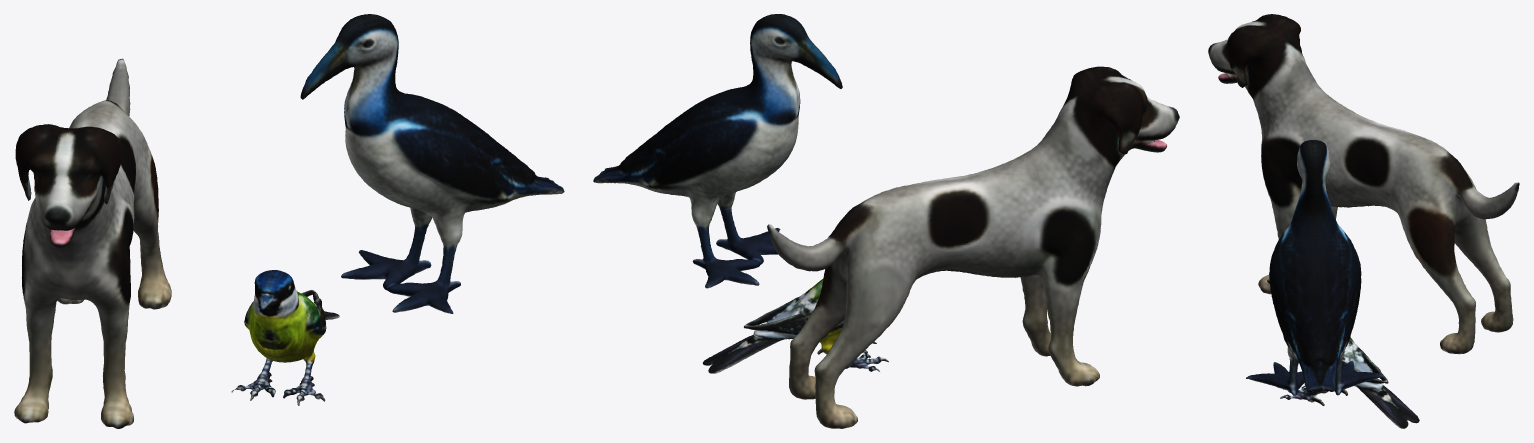
Rendered from blue2.glb.
3 views of the same model, side by side, from view 1: azimuth 30°, elevation 25°; view 2: azimuth 150°, elevation 25°; view 3: azimuth 270°, elevation 25° (orthographic). The views are drawn at different scales.
Visible parts, largest first — view 1: Mesh_0, Mesh_0.002, Mesh_0.003; view 2: Mesh_0, Mesh_0.002, Mesh_0.003; view 3: Mesh_0, Mesh_0.002, Mesh_0.003.
Boxes of the visible parts, x1=… form: Mesh_0: x1=14, y1=58, x2=171, y2=428; Mesh_0.002: x1=300, y1=14, x2=564, y2=313; Mesh_0.003: x1=231, y1=270, x2=339, y2=405; Mesh_0: x1=767, y1=66, x2=1179, y2=428; Mesh_0.002: x1=593, y1=14, x2=842, y2=288; Mesh_0.003: x1=703, y1=279, x2=888, y2=373; Mesh_0: x1=1208, y1=14, x2=1519, y2=354; Mesh_0.002: x1=1246, y1=140, x2=1383, y2=395; Mesh_0.003: x1=1267, y1=279, x2=1419, y2=428.
Size of the model in its own units: 18.64 by 11.03 by 11.04.
3 materials, 3 textured.
